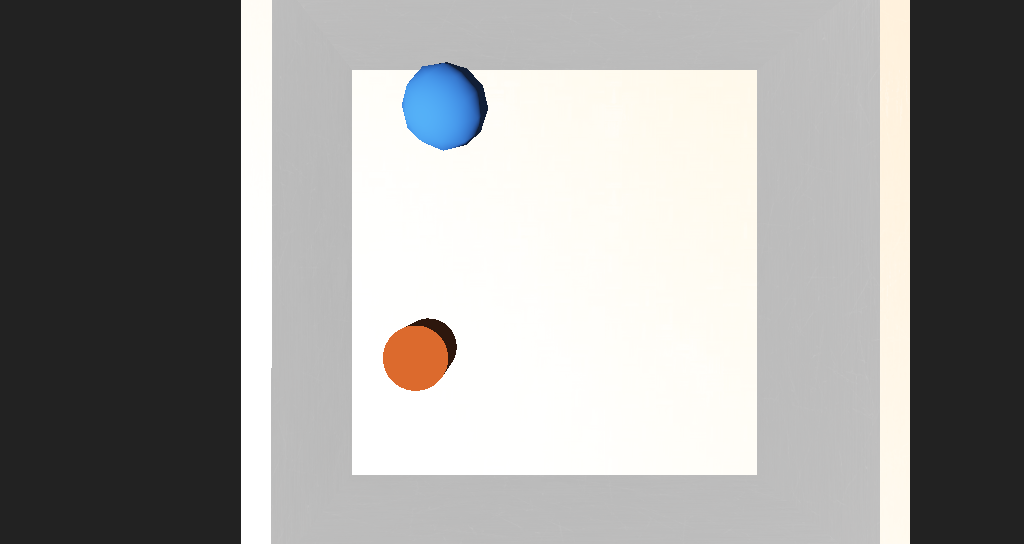cone: (377, 291, 431, 329)
cylinder: (546, 12, 627, 112)
sphere: (394, 157, 455, 205)
